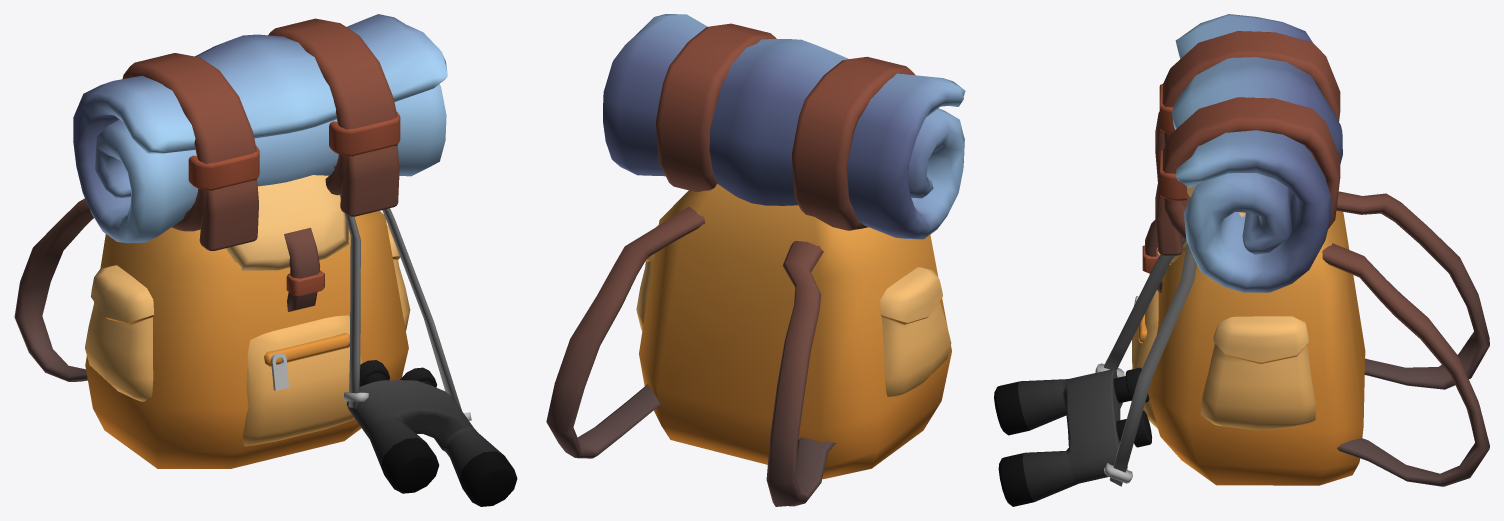
File: Backpack_01.fbx
3 views of the same model, side by side, from view 1: azimuth 30°, elevation 25°; view 2: azimuth 150°, elevation 25°; view 3: azimuth 270°, elevation 25° (orthographic). The views are drawn at different scales.
Parts seen in each view (by area): view 1: Backpack_01; view 2: Backpack_01; view 3: Backpack_01.
Boxes of the visible parts, box(x1,y1,x2,y2) form: Backpack_01: box(14, 14, 517, 506); Backpack_01: box(546, 14, 965, 506); Backpack_01: box(994, 14, 1489, 506).
Bounding box in the file's own units: 79.49 × 96.78 × 112.
